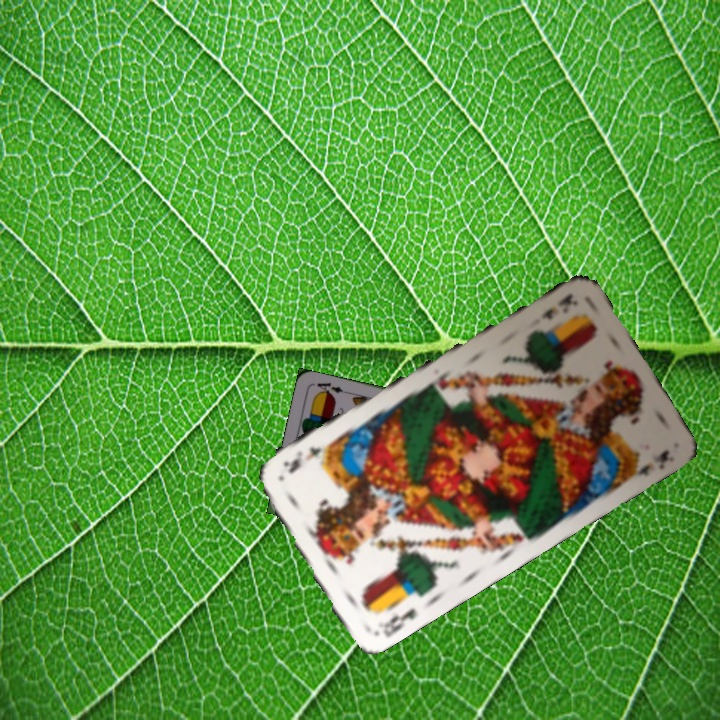EK: (374, 604, 419, 639), (537, 289, 579, 322)
